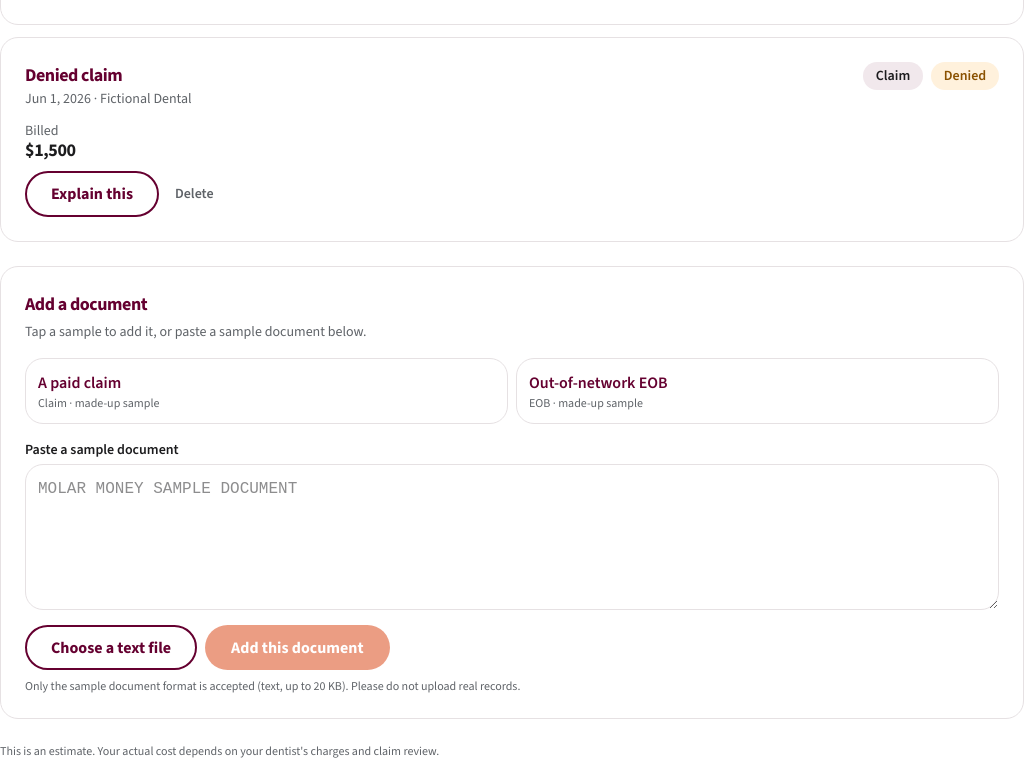
Test: Reports page › uploads pasted text and shows the 422 message plainly
(page scrolled)
In the text box labelled "Paste a sample document": (512,537) [25,464,999,610], type "hello there"
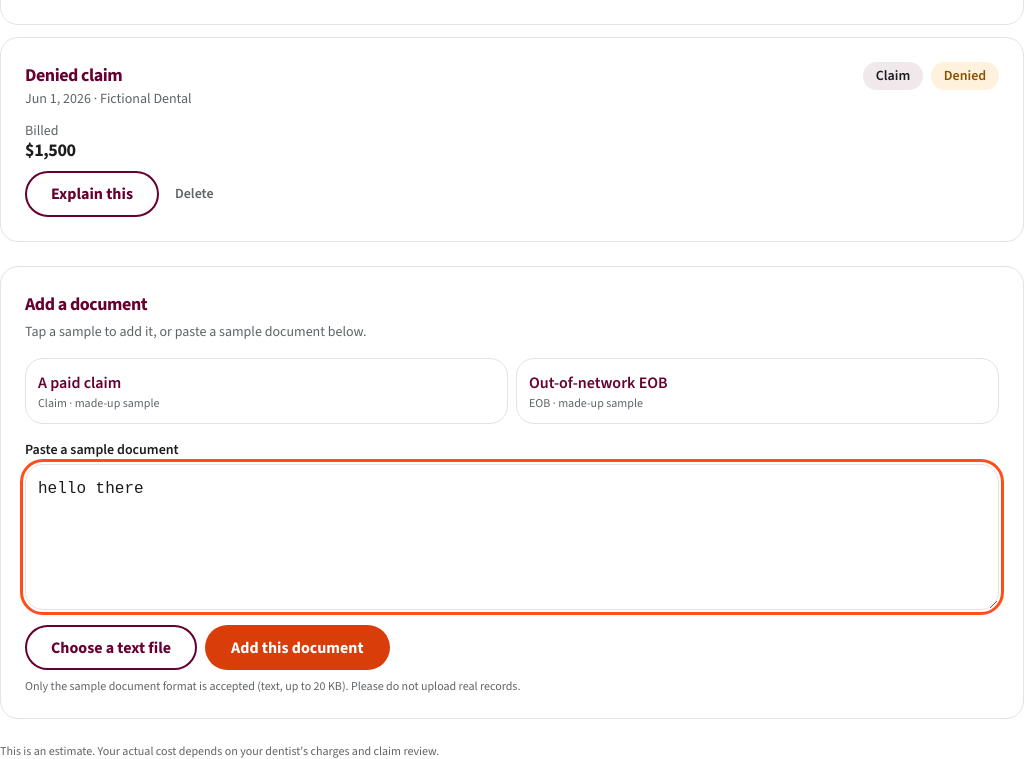
Click the button "Add this document": (297,648) [205,625,390,670]
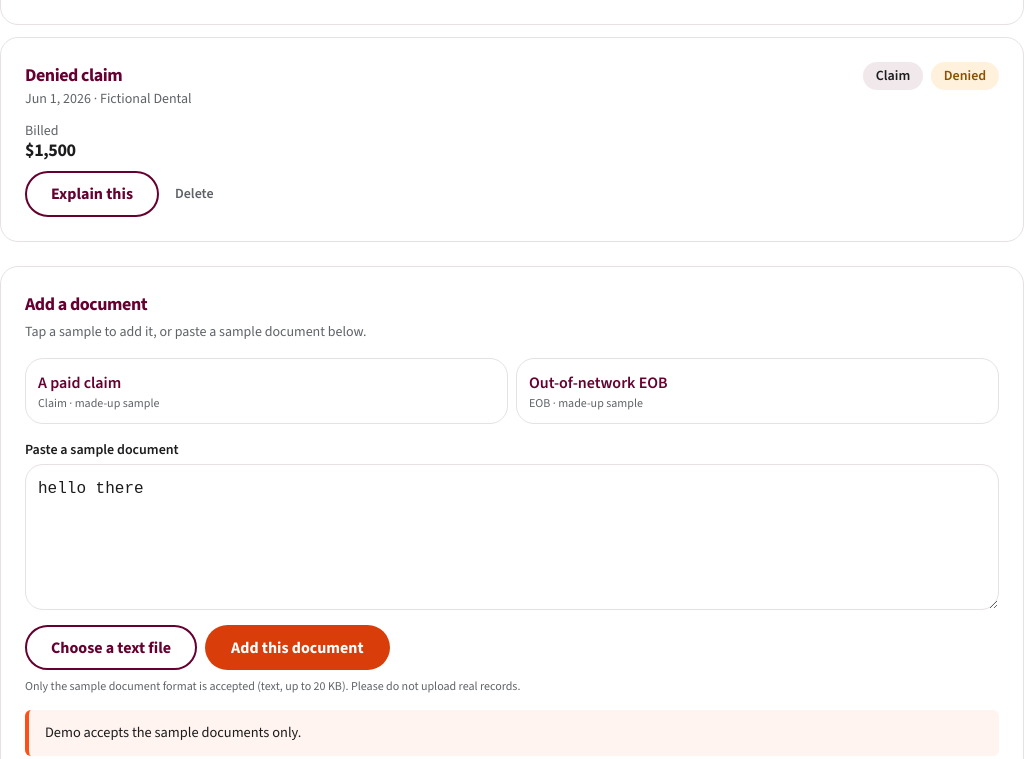
Now the text "Demo accepts the sample documents only." is shown, box [25,710,999,756]
